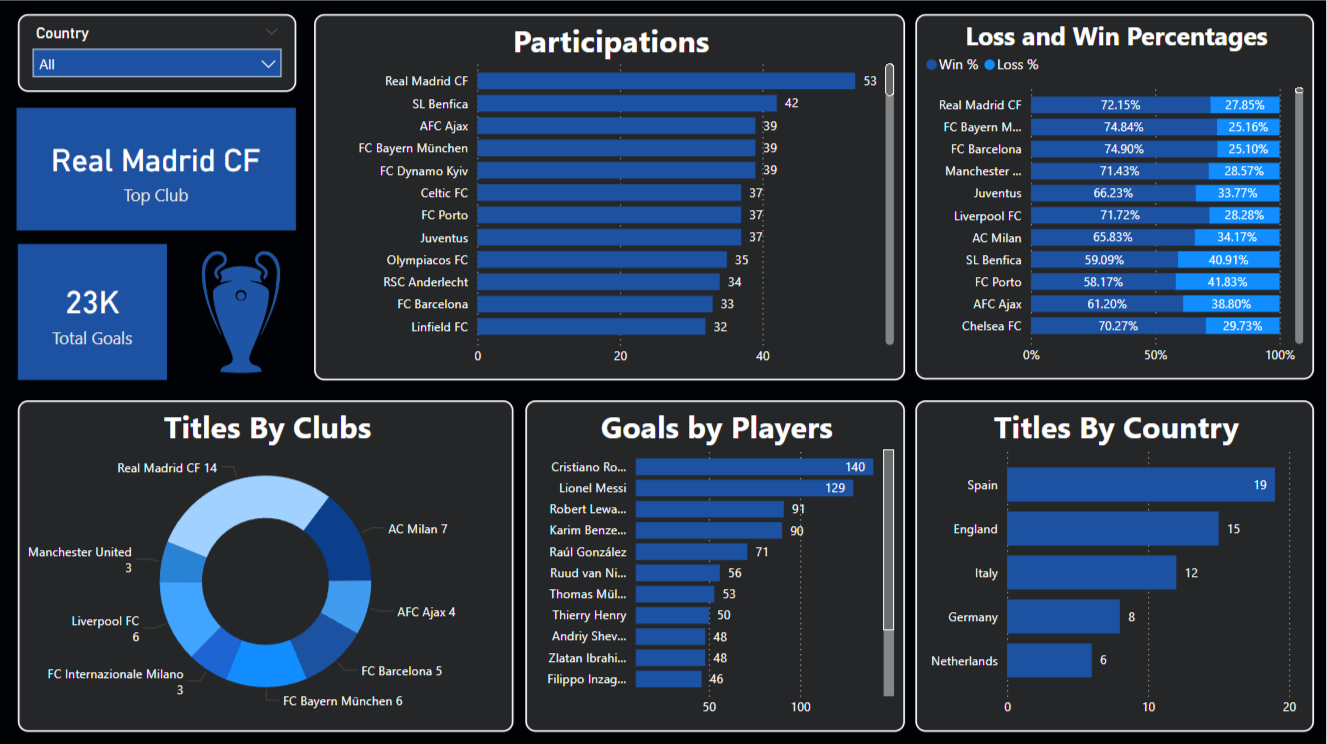

The page's visual inventory and layout, read from the dashboard file:
{"tool":"powerbi","page":{"name":"Page 1","canvas":[1280,720],"ordinal":0},"visuals":[{"type":"clusteredBarChart","title":"Titles By Country","fields":{"Category":["AllTimeRankingByClub.Country"],"Y":["AllTimeRankingByClub.Titles"]},"box":[883.8,386.2,385,320],"z":0},{"type":"hundredPercentStackedBarChart","title":"Loss and Win Percentages","fields":{"Category":["AllTimeRankingByClub.Club"],"Y":["AllTimeRankingByClub.Win","AllTimeRankingByClub.Loss"]},"box":[883.8,13.8,385,352.5],"z":1000},{"type":"slicer","fields":{"Values":["AllTimeRankingByClub.Country"]},"box":[17.5,13.8,268.8,75],"z":2000},{"type":"card","fields":{"Values":["AllTimeRankingByClub.Top Club"]},"box":[16.9,103.8,269.2,118.5],"z":3000},{"type":"clusteredBarChart","title":"Participations","fields":{"Category":["AllTimeRankingByClub.Club"],"Y":["AllTimeRankingByClub.Participated"]},"box":[303.8,13.8,570,353.8],"z":4000},{"type":"clusteredBarChart","title":"Goals by Players","fields":{"Category":["PlayerGoalTotals.Player"],"Y":["PlayerGoalTotals.Goals"]},"box":[507.5,386.2,366.2,320],"z":5000},{"type":"card","fields":{"Values":["AllTimeRankingByClub.Goals"]},"box":[17.5,235,143.8,131.2],"z":6000},{"type":"image","box":[158.8,235,148.8,132.5],"z":7000},{"type":"donutChart","title":"Titles By Clubs","fields":{"Y":["AllTimeRankingByClub.Titles"],"Series":["AllTimeRankingByClub.Club"]},"box":[17.5,386.2,478.8,320],"z":8000}]}

Visuals, with their boxes in screenshot pixels (x1, y1, x2, y2), scaled from the page's 1280x720 canvas onto the 1327x744 screenshot:
"Titles By Country" clusteredBarChart: left=916, top=399, right=1315, bottom=730
"Loss and Win Percentages" hundredPercentStackedBarChart: left=916, top=14, right=1315, bottom=379
slicer - AllTimeRankingByClub.Country: left=18, top=14, right=297, bottom=92
card - AllTimeRankingByClub.Top Club: left=18, top=107, right=297, bottom=230
"Participations" clusteredBarChart: left=315, top=14, right=906, bottom=380
"Goals by Players" clusteredBarChart: left=526, top=399, right=906, bottom=730
card - AllTimeRankingByClub.Goals: left=18, top=243, right=167, bottom=378
image: left=165, top=243, right=319, bottom=380
"Titles By Clubs" donutChart: left=18, top=399, right=515, bottom=730
